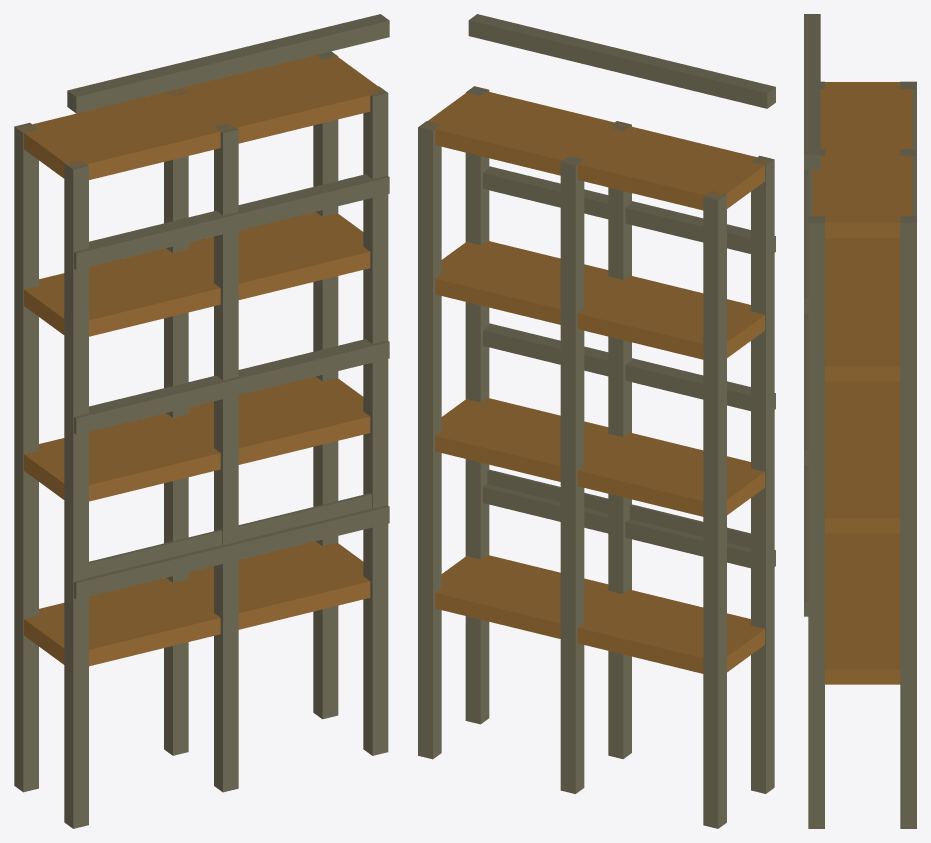
The model's file is SM_KitSueltas_v7_LOD1.fbx.
3 renders of one model, left to right at view 1: azimuth 30°, elevation 25°; view 2: azimuth 150°, elevation 25°; view 3: azimuth 270°, elevation 25°, orthographic. The views are drawn at different scales.
Visible parts, largest first — view 1: SM_bloques.kit_sueltas_v7_LOD1; view 2: SM_bloques.kit_sueltas_v7_LOD1; view 3: SM_bloques.kit_sueltas_v7_LOD1.
Boxes of the visible parts, x1=… form: SM_bloques.kit_sueltas_v7_LOD1: x1=14, y1=14, x2=389, y2=828; SM_bloques.kit_sueltas_v7_LOD1: x1=418, y1=14, x2=775, y2=828; SM_bloques.kit_sueltas_v7_LOD1: x1=804, y1=14, x2=916, y2=828.
Size of the model in its own units: 4 by 8.9 by 1.35.
